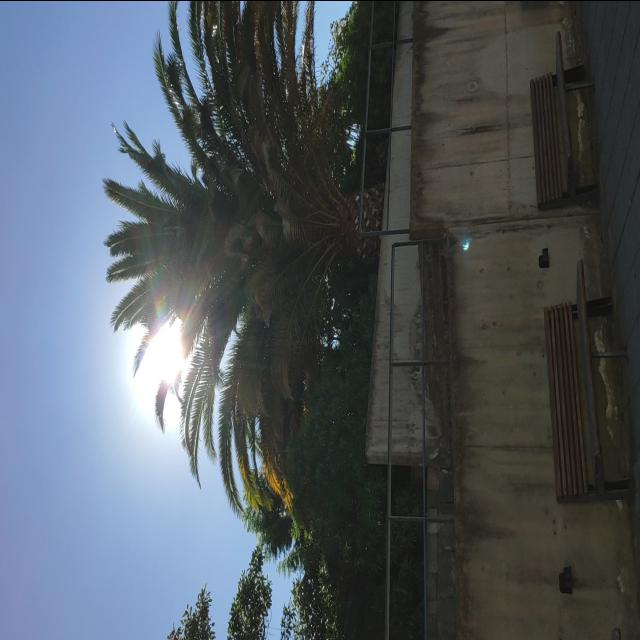Palm-Trees: (121, 0, 376, 492)
